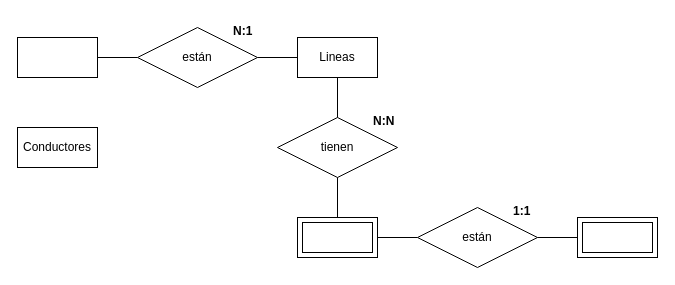
This 675x285 diagram has some shape labels left out. The shapes that lost their labels are listed below. From the top down, each one's centre as x and y in pixels, then its label:
At (57,57): "Trenes".
At (337,237): "Estaciones".
At (617,237): "Ubicaciones".
